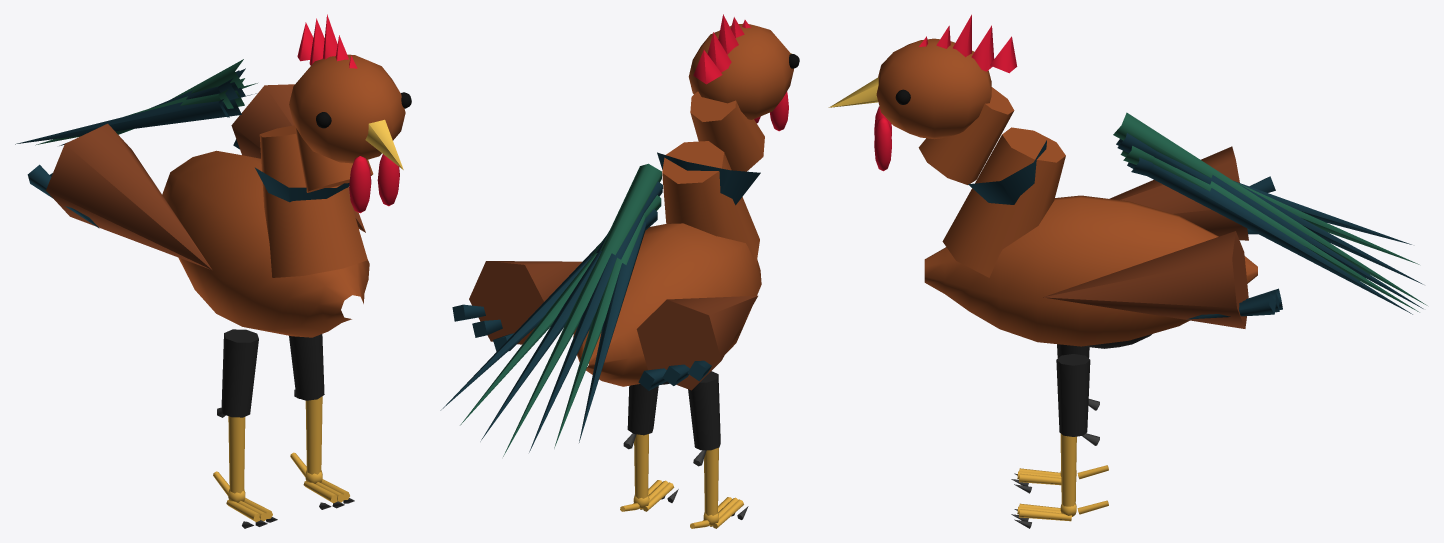
File: rooster_rigged.gltf
3 views of the same model, side by side, from view 1: azimuth 30°, elevation 25°; view 2: azimuth 150°, elevation 25°; view 3: azimuth 270°, elevation 25° (orthographic). The views are drawn at different scales.
Visible parts, largest first — view 1: BodyMain, WingBase (×2), NeckLower, HeadSphere, Thigh (×2), TailFeather0, Shin (×2), NeckUpper, Hackle, WattleL, WattleR, Beak (+4 smaller); view 2: BodyMain, WingBase (×2), NeckLower, HeadSphere, TailFeather3, NeckUpper, Thigh (×2), TailFeather2, TailFeather0, Shin (×2), TailFeather1, TailFeather4 (+8 smaller); view 3: BodyMain, WingBase (×2), NeckLower, HeadSphere, NeckUpper, TailFeather6, TailFeather3, Thigh, TailFeather5, TailFeather4, Hackle, TailFeather2 (+5 smaller).
Boxes of the visible parts, <box> form: BodyMain: <box>162,150,369,337</box>; WingBase (×2): <box>46,84,365,270</box>; NeckLower: <box>259,125,367,277</box>; HeadSphere: <box>289,54,405,163</box>; Thigh (×2): <box>221,329,324,417</box>; TailFeather0: <box>15,99,241,144</box>; Shin (×2): <box>228,396,322,493</box>; NeckUpper: <box>295,126,373,192</box>; Hackle: <box>255,167,349,202</box>; WattleL: <box>349,156,371,213</box>; WattleR: <box>377,154,399,206</box>; Beak: <box>365,119,403,169</box>; BodyMain: <box>573,223,761,386</box>; WingBase (×2): <box>469,261,757,390</box>; NeckLower: <box>662,141,759,264</box>; HeadSphere: <box>688,24,793,119</box>; TailFeather3: <box>503,163,661,456</box>; NeckUpper: <box>690,91,764,171</box>; Thigh (×2): <box>627,371,720,450</box>; TailFeather2: <box>529,210,643,452</box>; TailFeather0: <box>579,222,646,442</box>; Shin (×2): <box>634,434,718,515</box>; TailFeather1: <box>554,215,645,448</box>; TailFeather4: <box>480,181,662,441</box>; BodyMain: <box>924,195,1257,346</box>; WingBase (×2): <box>1043,146,1248,328</box>; NeckLower: <box>942,127,1065,277</box>; HeadSphere: <box>876,38,991,139</box>; NeckUpper: <box>918,87,1014,184</box>; TailFeather6: <box>1127,162,1412,314</box>; TailFeather3: <box>1113,112,1427,305</box>; Thigh: <box>1056,354,1090,436</box>; TailFeather5: <box>1120,150,1419,312</box>; TailFeather4: <box>1116,139,1423,308</box>; Hackle: <box>968,140,1046,204</box>; TailFeather2: <box>1117,133,1423,284</box>.
Bounding box in the file's own units: 1.97 × 3.51 × 3.89.
